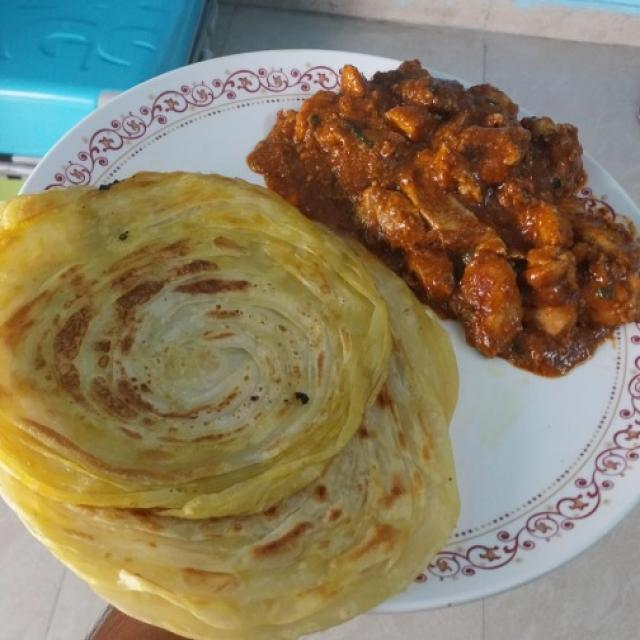CURRY: (245, 60, 639, 382)
PAROTTA: (0, 169, 463, 639)
